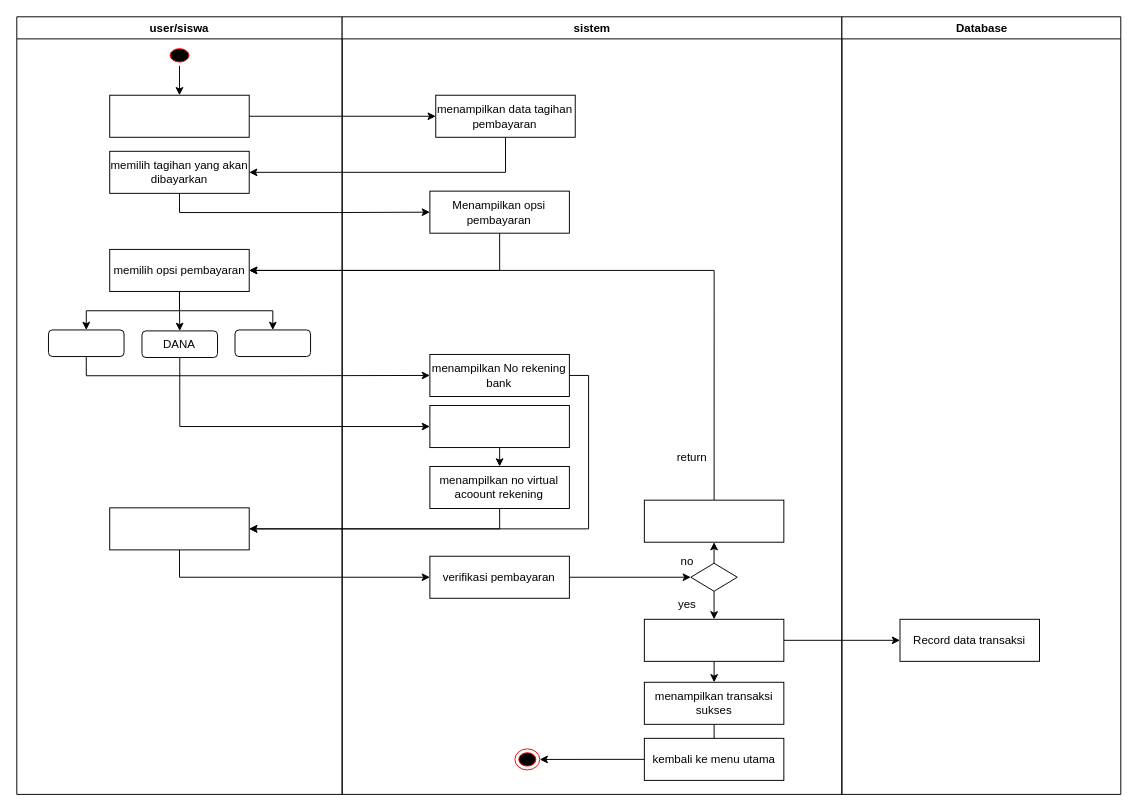
Image size: 1138x811. Some labels were removed from this diagram. Each missing label, with the centre of its shape:
Cash: (272,343)
Melakukan Pembayaran: (179,528)
Membuat kode virtual account: (499,426)
Memilih menu payment: (179,115)
menampilkan pesan kesalahan: (713,520)
menyimpan data transaksi: (713,639)
Transfer Bank: (86,343)
